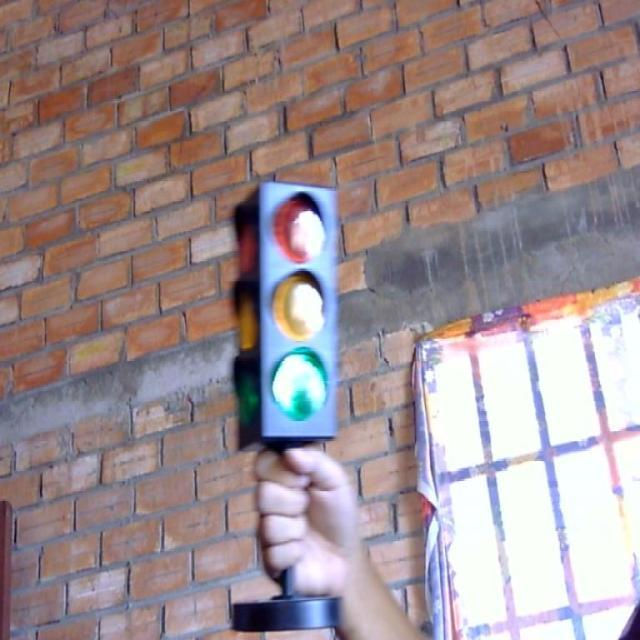green light: (258, 337, 338, 429)
